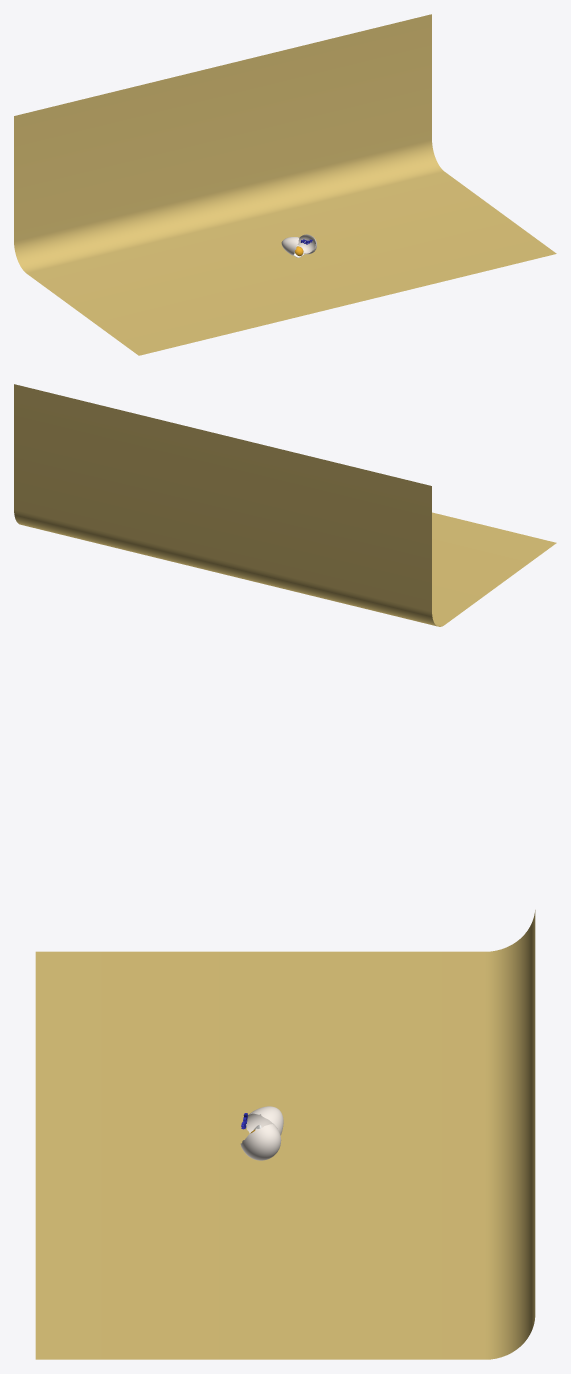
3 renders of one model, top to bottom at view 1: azimuth 30°, elevation 25°; view 2: azimuth 150°, elevation 25°; view 3: azimuth 270°, elevation 25°, orthographic. The views are drawn at different scales.
Visible parts, largest first — view 1: 平面; view 2: 平面; view 3: 平面, 球.001.
Part boxes in pixels (x1=…): 平面: x1=14, y1=14, x2=556, y2=355; 平面: x1=14, y1=384, x2=556, y2=626; 平面: x1=35, y1=910, x2=535, y2=1359; 球.001: x1=240, y1=1124, x2=281, y2=1160.
Bounding box in the file's own units: 15998 × 6523 × 8281.
